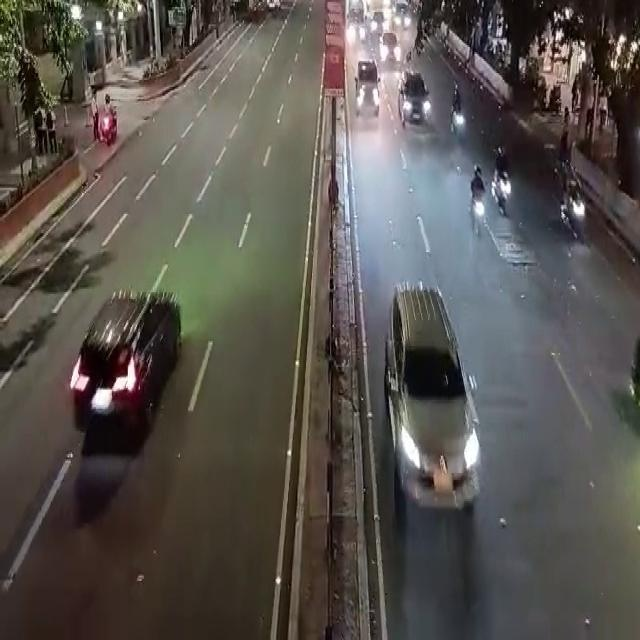car: (386, 285, 480, 525), (66, 274, 186, 456), (393, 64, 435, 128), (352, 60, 380, 122), (100, 91, 120, 143), (377, 31, 404, 65)
motorcycle: (546, 165, 583, 256), (468, 168, 488, 244), (445, 77, 464, 138), (494, 153, 510, 217)
